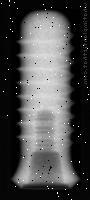Keystone Dental: (11, 9, 81, 188)
